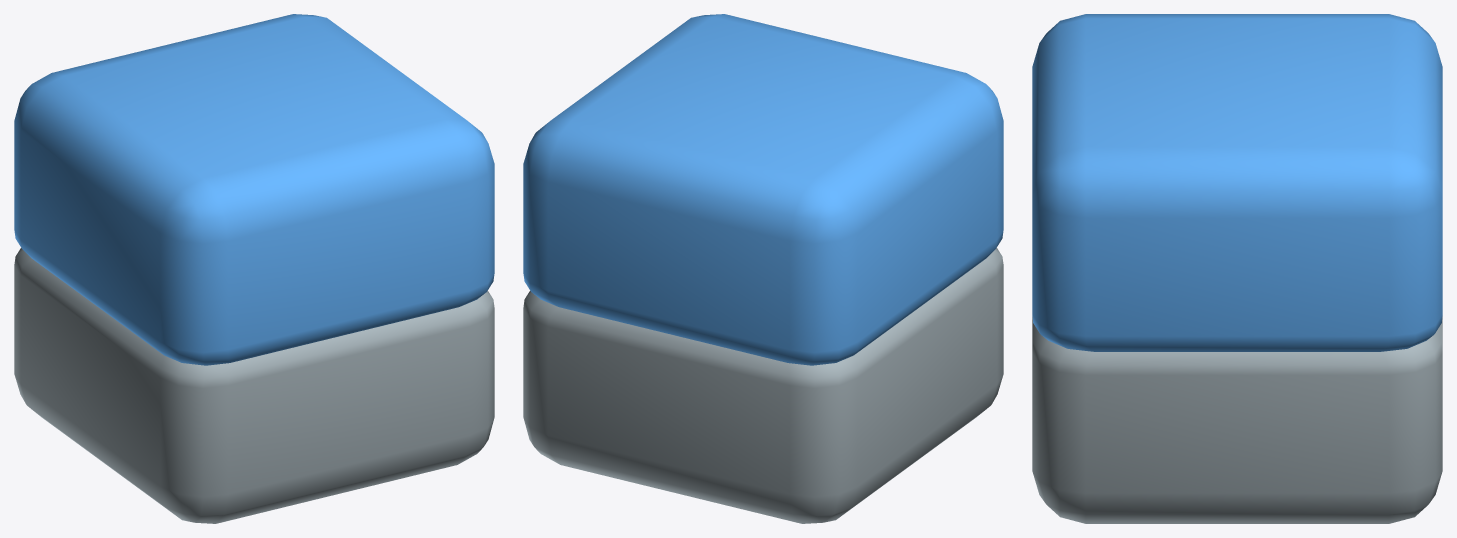
Rendered from tileSmall_teamBlue-col.glb.
3 views of the same model, side by side, from view 1: azimuth 30°, elevation 25°; view 2: azimuth 150°, elevation 25°; view 3: azimuth 270°, elevation 25° (orthographic). The views are drawn at different scales.
Parts seen in each view (by area): view 1: tileSmall_teamBlue-col; view 2: tileSmall_teamBlue-col; view 3: tileSmall_teamBlue-col.
Part boxes in pixels (bbox=[...]): tileSmall_teamBlue-col: bbox=[14, 14, 494, 523]; tileSmall_teamBlue-col: bbox=[523, 14, 1003, 523]; tileSmall_teamBlue-col: bbox=[1032, 14, 1442, 523].
Bounding box in the file's own units: 1 × 1 × 1.
